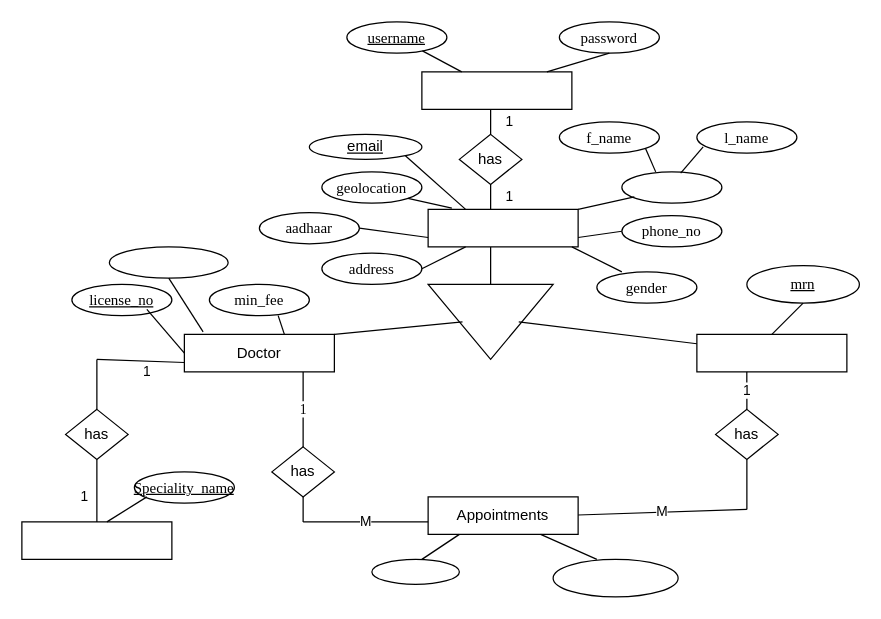
The diagram is 881 pixels wide and 619 high, and some of its shapes have lost their labels. Here are the shapes that lost their labels. From the top down, the centre of each, then its label:
pixel 496 90: User
pixel 671 187: name
pixel 502 227: User_Details
pixel 168 262: SOS_availability
pixel 490 321: IS A
pixel 771 352: Patient
pixel 96 540: Speciality
pixel 415 571: a_id
pixel 615 577: slot_details
